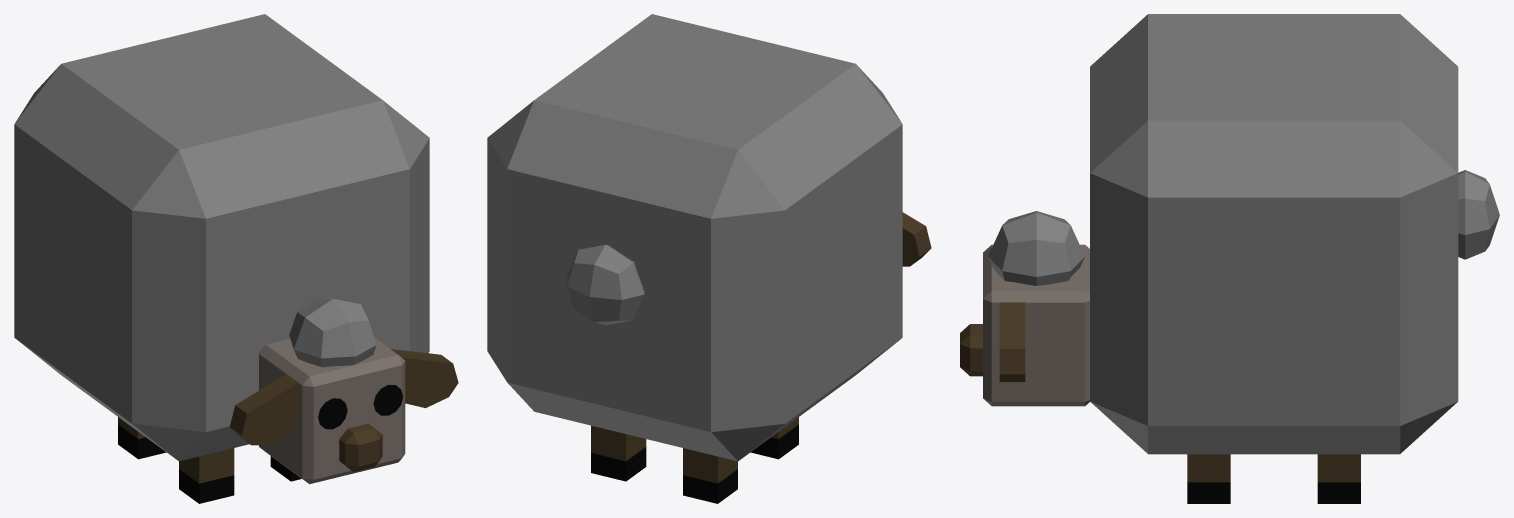
Rendered from sheep.gltf.
3 views of the same model, side by side, from view 1: azimuth 30°, elevation 25°; view 2: azimuth 150°, elevation 25°; view 3: azimuth 270°, elevation 25° (orthographic). The views are drawn at different scales.
Parts seen in each view (by area): view 1: geo1; view 2: geo1; view 3: geo1.
Boxes of the visible parts, x1,y1,x2,y2 form: geo1: [14, 14, 458, 503]; geo1: [487, 14, 931, 503]; geo1: [960, 14, 1499, 503].
Bounding box in the file's own units: 1 × 1.21 × 1.47.
